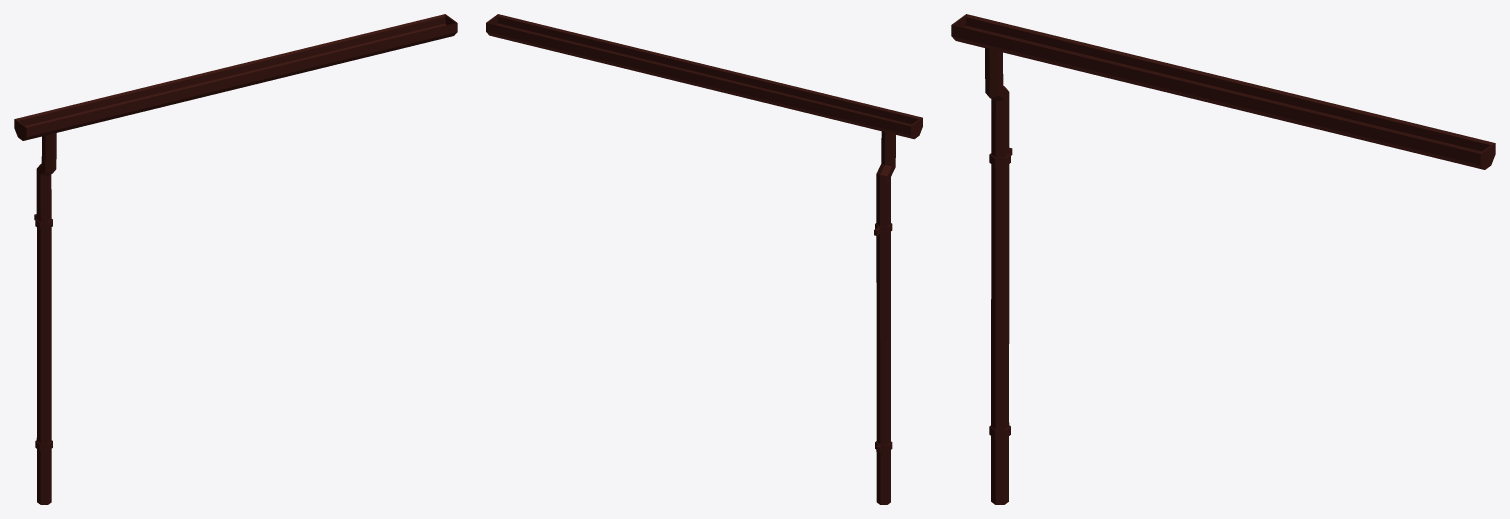
Rendered from rainwater channel3.fbx.
3 renders of one model, left to right at view 1: azimuth 30°, elevation 25°; view 2: azimuth 150°, elevation 25°; view 3: azimuth 330°, elevation 25°, orthographic. The views are drawn at different scales.
Visible parts, largest first — view 1: canale, tubo_canale; view 2: canale, tubo_canale; view 3: canale, tubo_canale.
Part boxes in pixels (box(x1,y1,x2,y2)): canale: box(16, 14, 457, 140); tubo_canale: box(36, 133, 56, 504); canale: box(486, 14, 921, 138); tubo_canale: box(876, 131, 895, 504); canale: box(952, 14, 1493, 169); tubo_canale: box(985, 48, 1009, 504).
Size of the model in its own units: 678 by 585 by 52.71.
